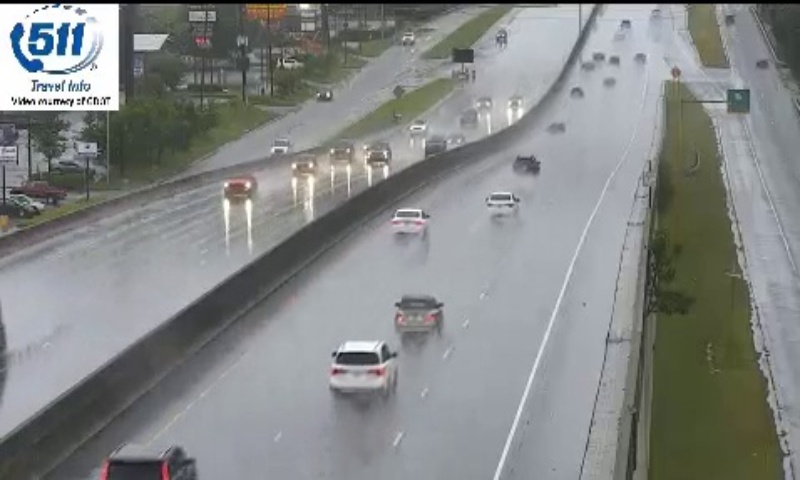car: (329, 339, 394, 394), (394, 295, 441, 335), (391, 207, 430, 236), (485, 190, 517, 219), (512, 152, 538, 177)
